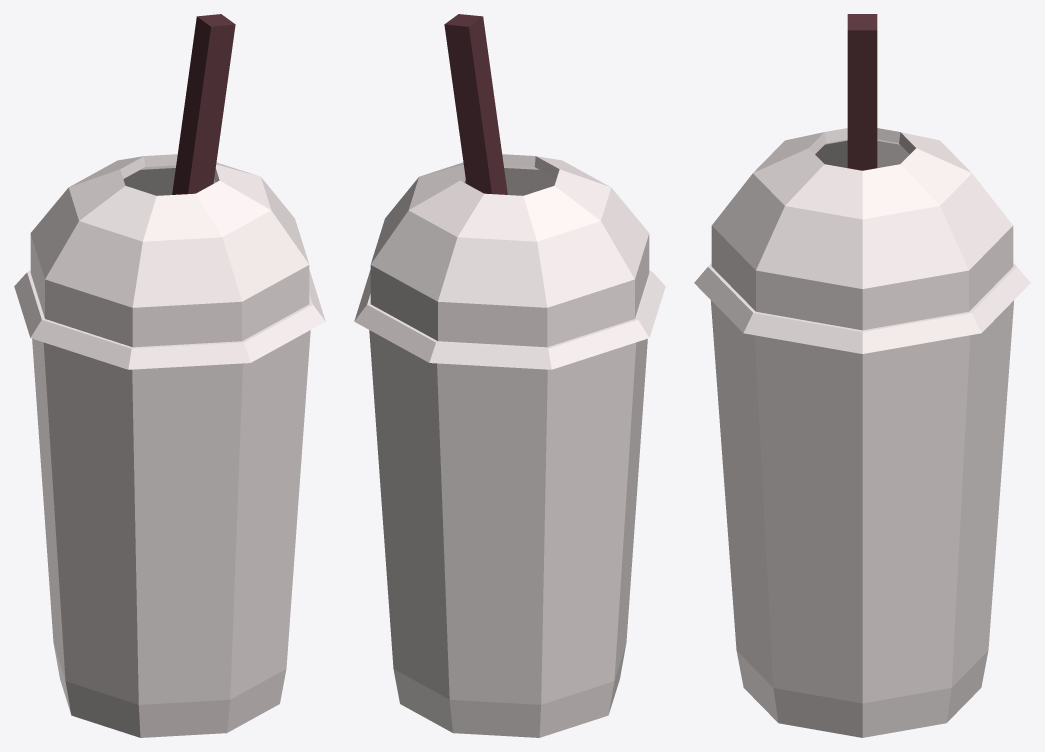
The model's file is cup-plastic-ice-coffee.fbx.
3 renders of one model, left to right at view 1: azimuth 30°, elevation 25°; view 2: azimuth 150°, elevation 25°; view 3: azimuth 270°, elevation 25°, orthographic. The views are drawn at different scales.
Visible parts, largest first — view 1: cup-plastic-ice-coffee; view 2: cup-plastic-ice-coffee; view 3: cup-plastic-ice-coffee.
Boxes of the visible parts, box(x1,y1,x2,y2) form: cup-plastic-ice-coffee: box(14, 14, 325, 737); cup-plastic-ice-coffee: box(354, 14, 665, 737); cup-plastic-ice-coffee: box(694, 14, 1030, 737).
Size of the model in its own units: 0.1094 by 0.2475 by 0.1094.
